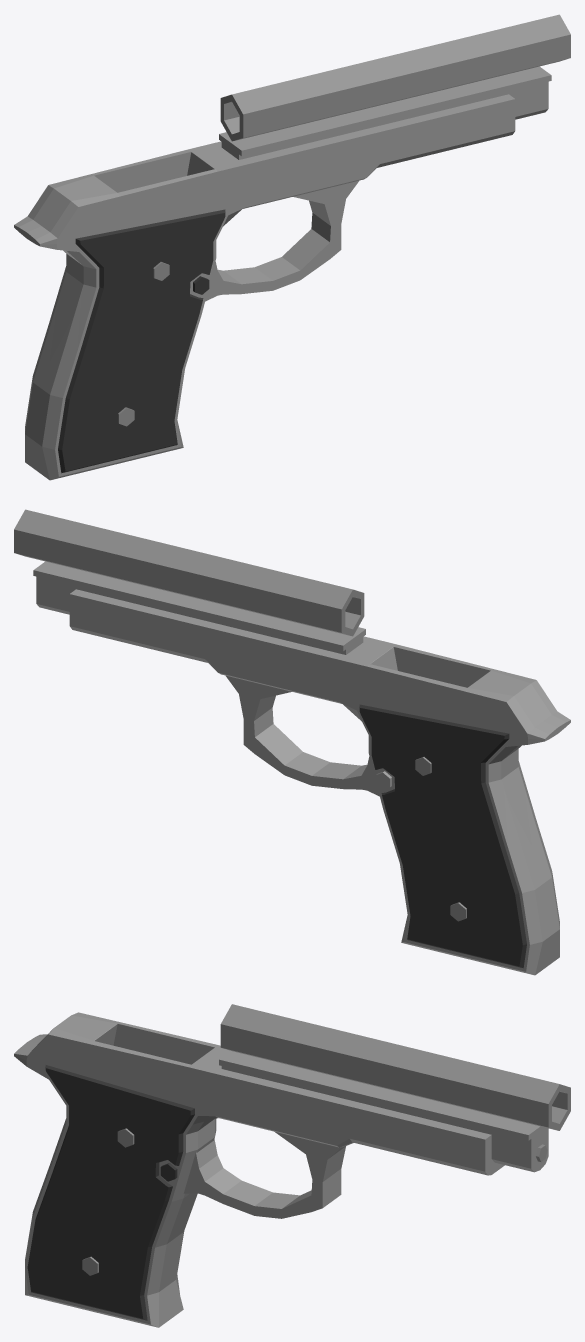
Rendered from Pistol1_01.fbx.
The picture shows the model from 3 angles, top to bottom: view 1: azimuth 30°, elevation 25°; view 2: azimuth 150°, elevation 25°; view 3: azimuth 330°, elevation 25°; orthographic projection.
Visible parts, largest first — view 1: Pistol1_01; view 2: Pistol1_01; view 3: Pistol1_01.
Part boxes in pixels (box(x1,y1,x2,y2)): Pistol1_01: box(14, 14, 570, 480); Pistol1_01: box(14, 509, 570, 975); Pistol1_01: box(14, 1004, 570, 1327).
Bounding box in the file's own units: 0.259 × 0.1531 × 0.031.
